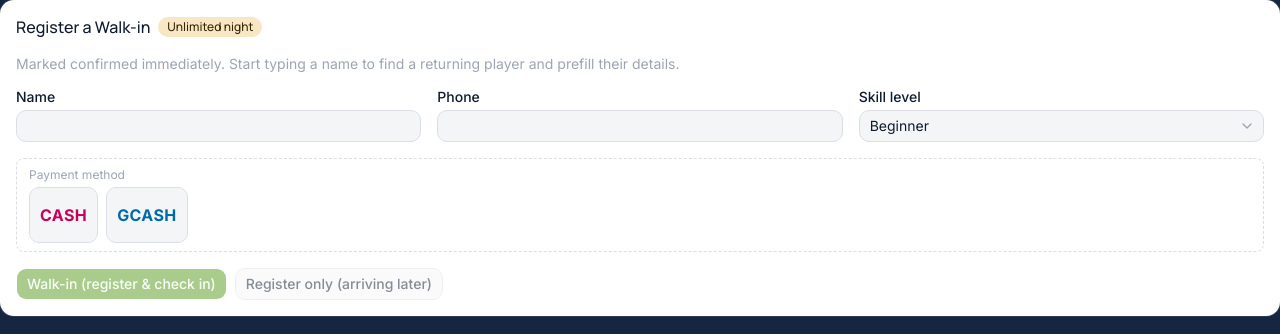
WalkInRegistrationForm — capacity night requires an explicit payment choice › choosing Cash enables both submit buttons
Click the button "Cash": click(64, 215) [29, 187, 98, 243]
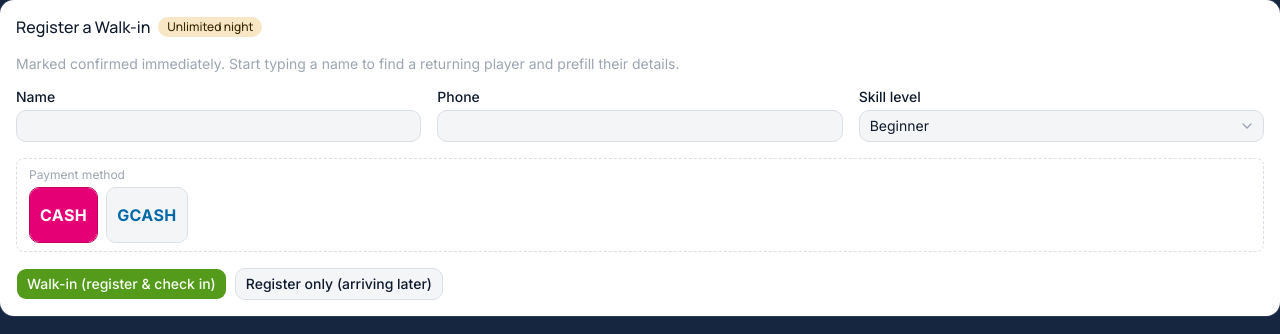
expect the button "Walk-in (register & check in)" is enabled: met, box [16, 268, 227, 300]
expect the button "Register only (arriving later)" is enabled: met, box [235, 268, 443, 300]
